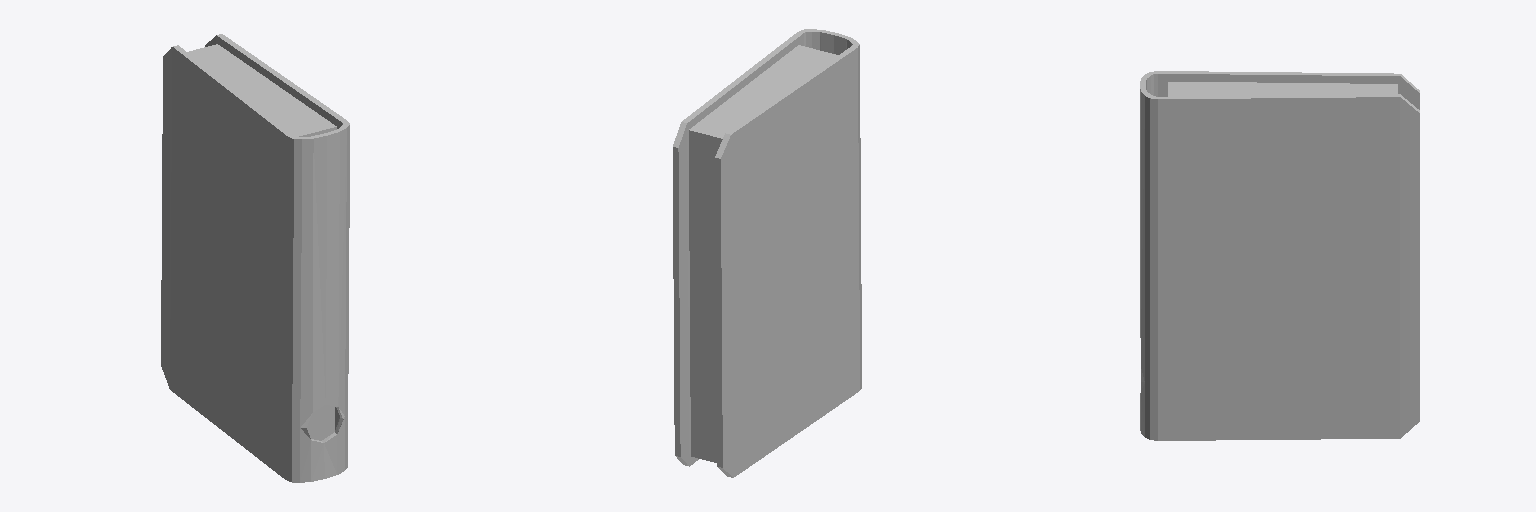
File: SM_Carpeta.obj
3 renders of one model, left to right at view 1: azimuth 30°, elevation 25°; view 2: azimuth 150°, elevation 25°; view 3: azimuth 270°, elevation 25°, orthographic.
Visible parts, largest first — view 1: Carpeta; view 2: Carpeta; view 3: Carpeta.
Part boxes in pixels (x1,y1,x2,y2): Carpeta: (161, 34, 349, 482); Carpeta: (673, 29, 861, 477); Carpeta: (1140, 71, 1419, 440).
Size of the model in its own units: 0.4688 by 2.46 by 1.82.